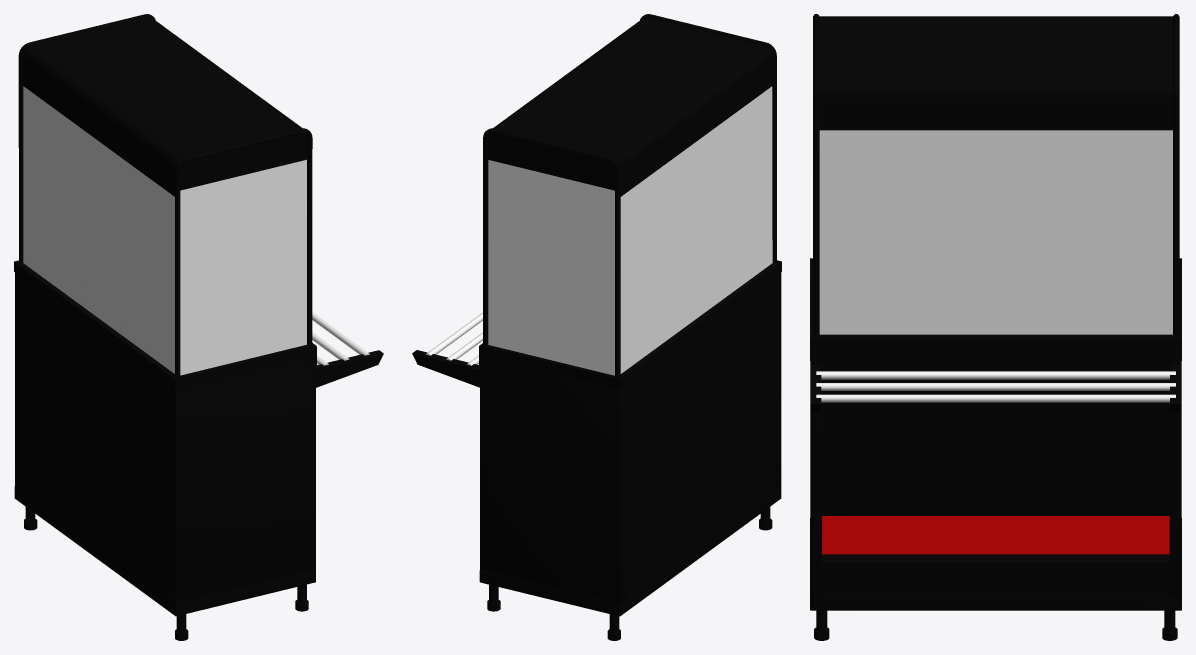
File: KitchenRazdacha01_03a.FBX
3 renders of one model, left to right at view 1: azimuth 30°, elevation 25°; view 2: azimuth 150°, elevation 25°; view 3: azimuth 270°, elevation 25°, orthographic. The views are drawn at different scales.
Parts seen in each view (by area): view 1: Kitchen03a, Glass; view 2: Kitchen03a, Glass; view 3: Kitchen03a, Glass.
Boxes of the visible parts, x1,y1,x2,y2 form: Kitchen03a: (14,14,383,640); Glass: (23,86,306,375); Kitchen03a: (412,14,781,640); Glass: (488,86,772,375); Kitchen03a: (810,14,1181,640); Glass: (819,130,1172,334).
Bounding box in the file's own units: 36.19 × 79.94 × 48.46.
